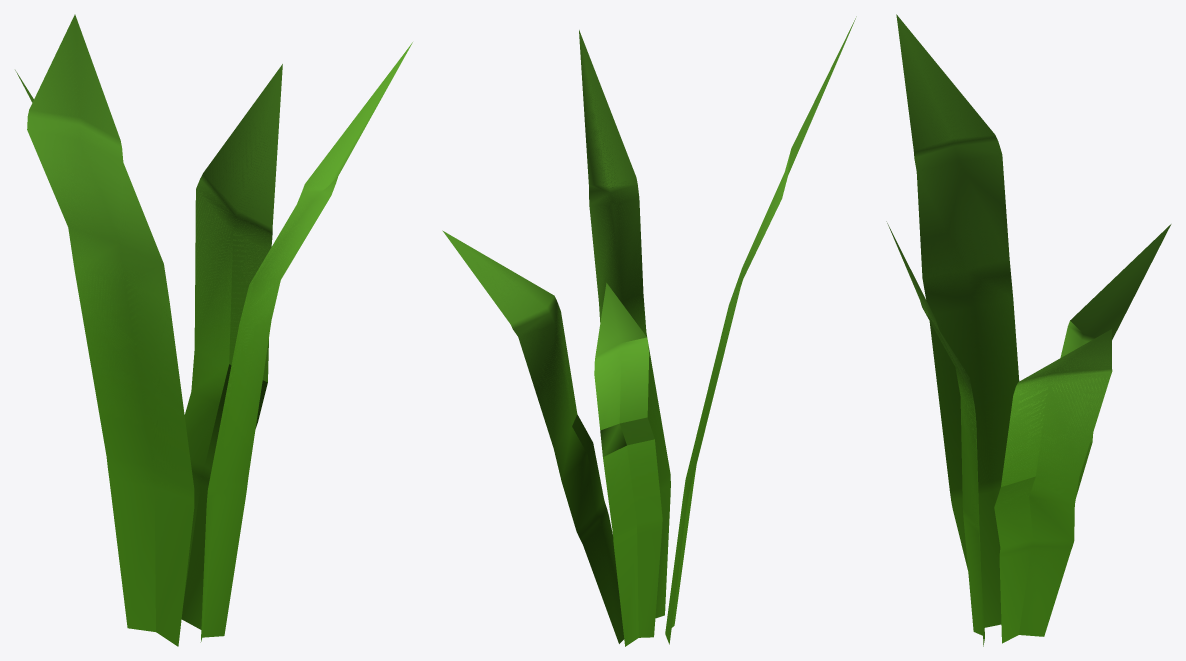
Rendered from Sm_Grass3L.fbx.
3 views of the same model, side by side, from view 1: azimuth 30°, elevation 25°; view 2: azimuth 150°, elevation 25°; view 3: azimuth 270°, elevation 25° (orthographic). The views are drawn at different scales.
Visible parts, largest first — view 1: Sm_Grass3L; view 2: Sm_Grass3L; view 3: Sm_Grass3L.
Part boxes in pixels (x1=…): Sm_Grass3L: x1=15, y1=14, x2=412, y2=646; Sm_Grass3L: x1=442, y1=16, x2=856, y2=646; Sm_Grass3L: x1=886, y1=14, x2=1171, y2=646.
Size of the model in its own units: 45.16 by 88.93 by 41.44.
